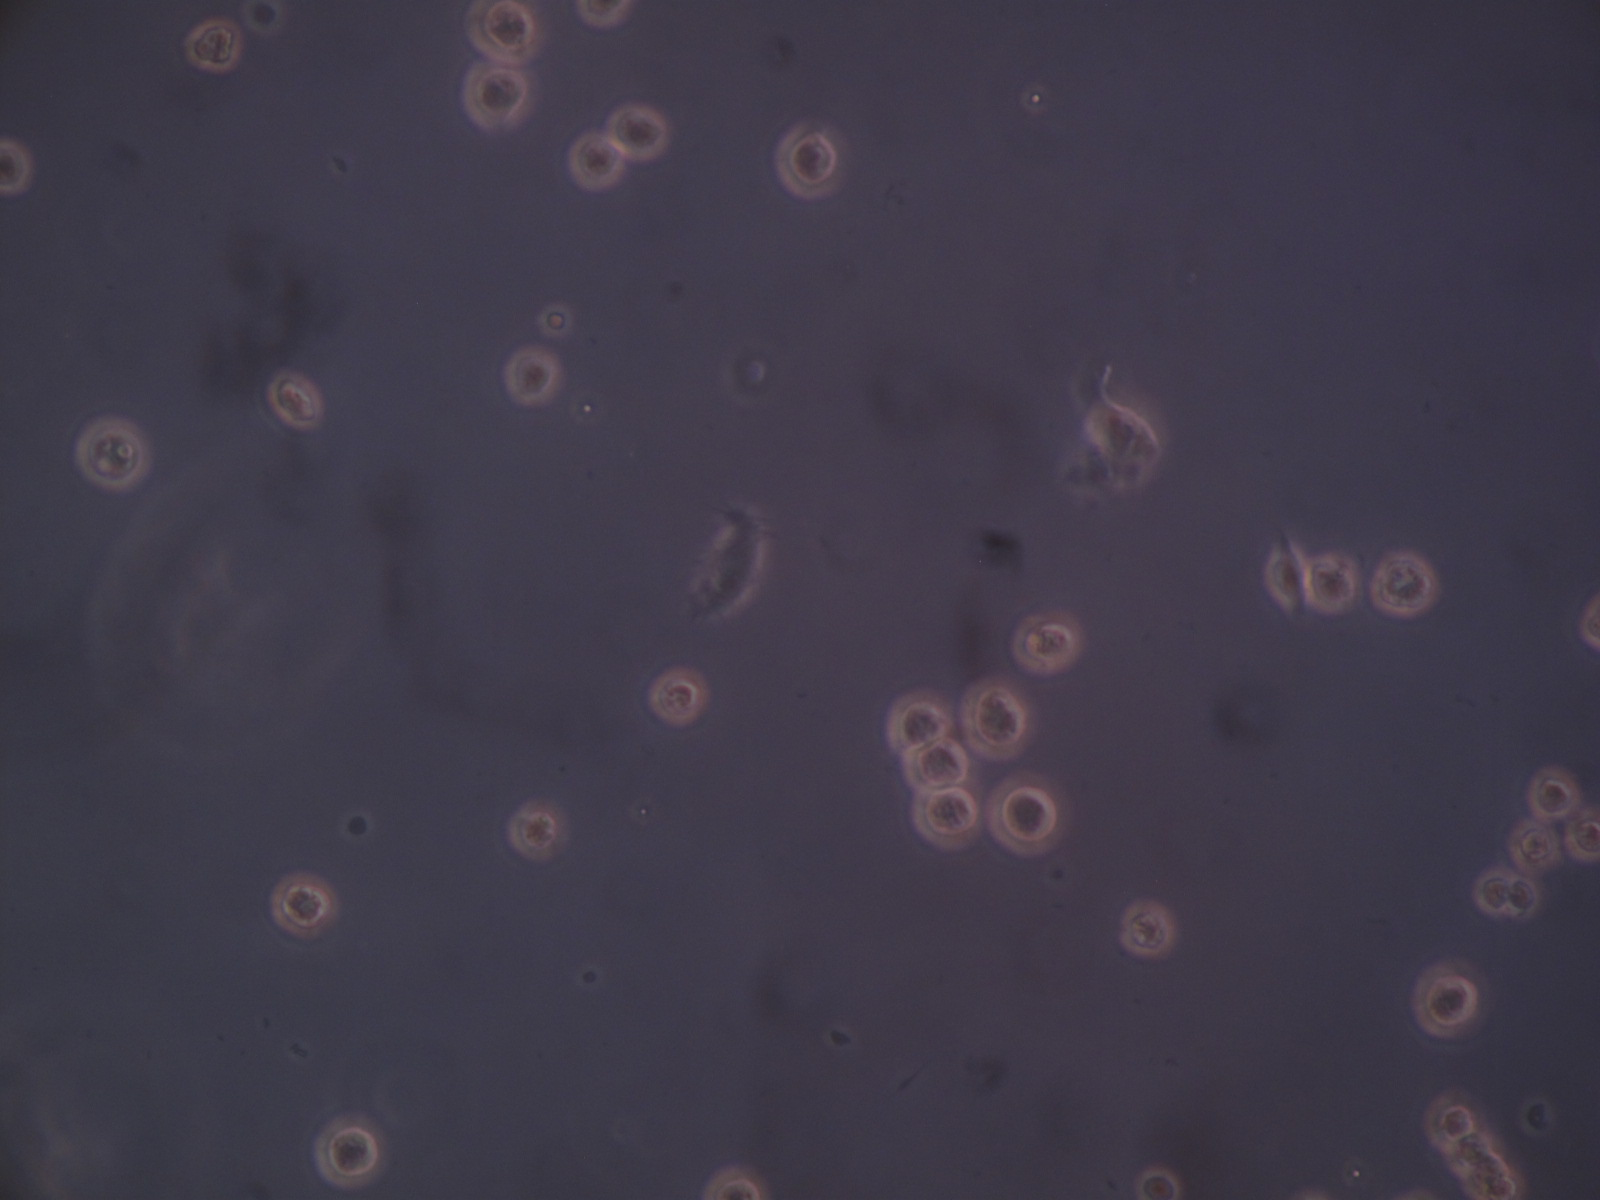hemo: (986, 768, 1070, 858), (959, 673, 1037, 761), (310, 1109, 391, 1192), (774, 117, 850, 200), (1411, 961, 1490, 1037), (461, 61, 539, 134), (77, 412, 150, 490), (1082, 400, 1162, 469), (1010, 611, 1086, 679), (464, 1, 540, 66), (911, 783, 981, 850), (270, 874, 341, 939), (1369, 548, 1435, 616), (888, 689, 952, 753), (266, 368, 326, 434), (564, 127, 625, 192), (649, 664, 708, 729), (508, 797, 564, 862), (905, 736, 973, 790), (1117, 897, 1175, 961), (1422, 1088, 1483, 1147), (501, 345, 562, 405), (1305, 550, 1358, 616), (606, 103, 666, 161), (185, 18, 243, 74), (1507, 817, 1561, 876), (1528, 763, 1579, 822), (1267, 545, 1308, 616), (700, 1163, 769, 1200), (1443, 1131, 1493, 1174), (1456, 1150, 1511, 1187), (1473, 865, 1512, 916), (1565, 808, 1600, 863), (1, 137, 34, 195), (1508, 871, 1541, 920), (1466, 1174, 1527, 1200), (1135, 1166, 1180, 1200), (578, 1, 631, 26)
